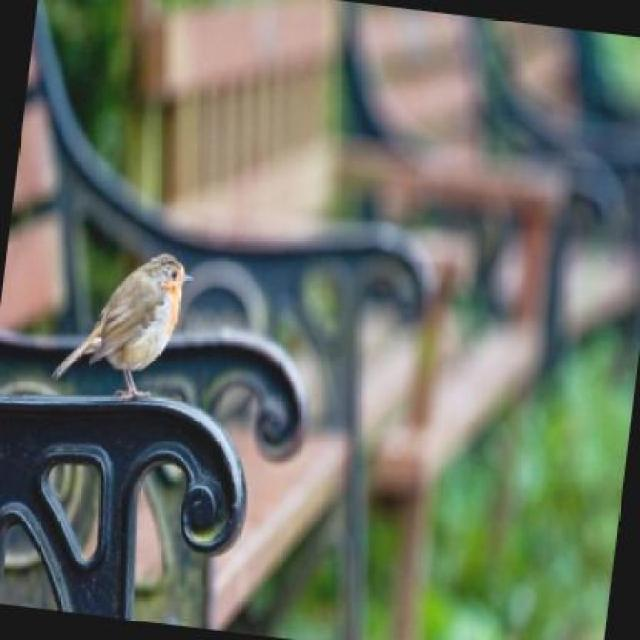Bird: (52, 249, 200, 401)
